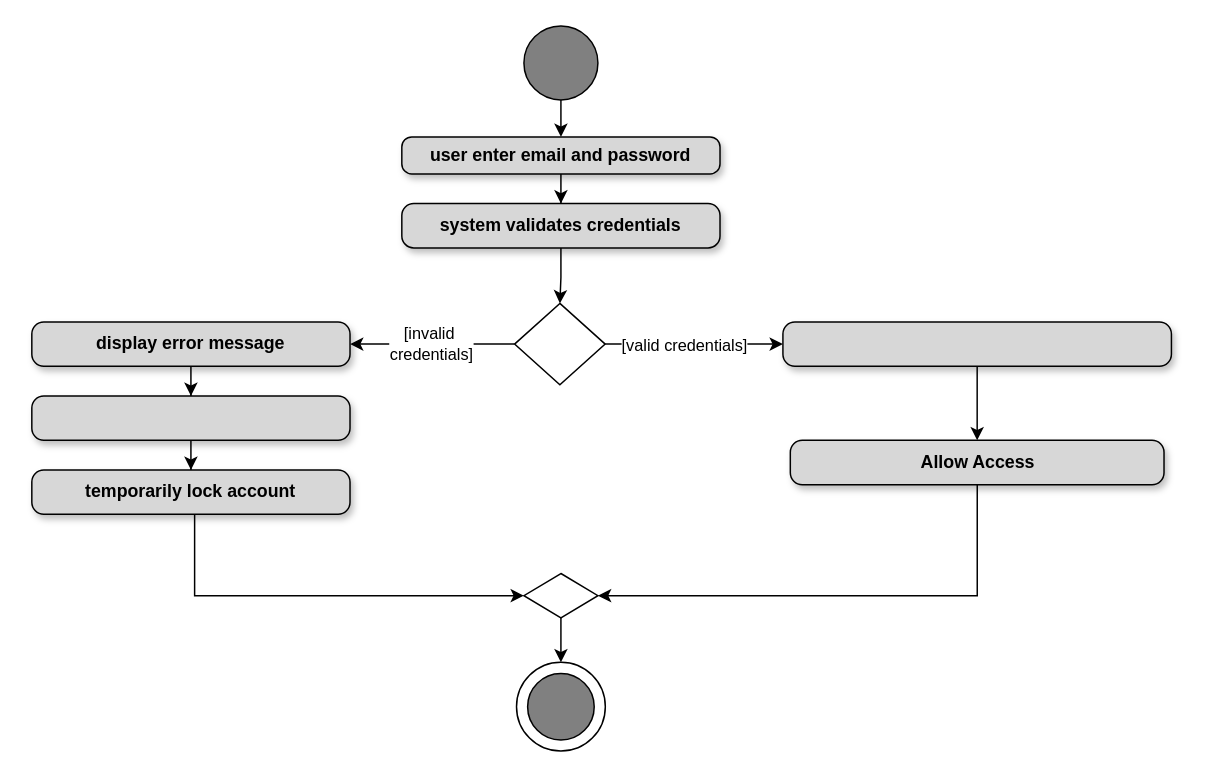
The diagram is 1206 pixels wide and 777 high, and some of its shapes have lost their labels. The shapes that lost their labels are listed below. From the top down, each one's centre as x and y in pixels, then its label:
pixel 978 345: Generate token and redirect to dashboard
pixel 191 419: multiple failed attempts
